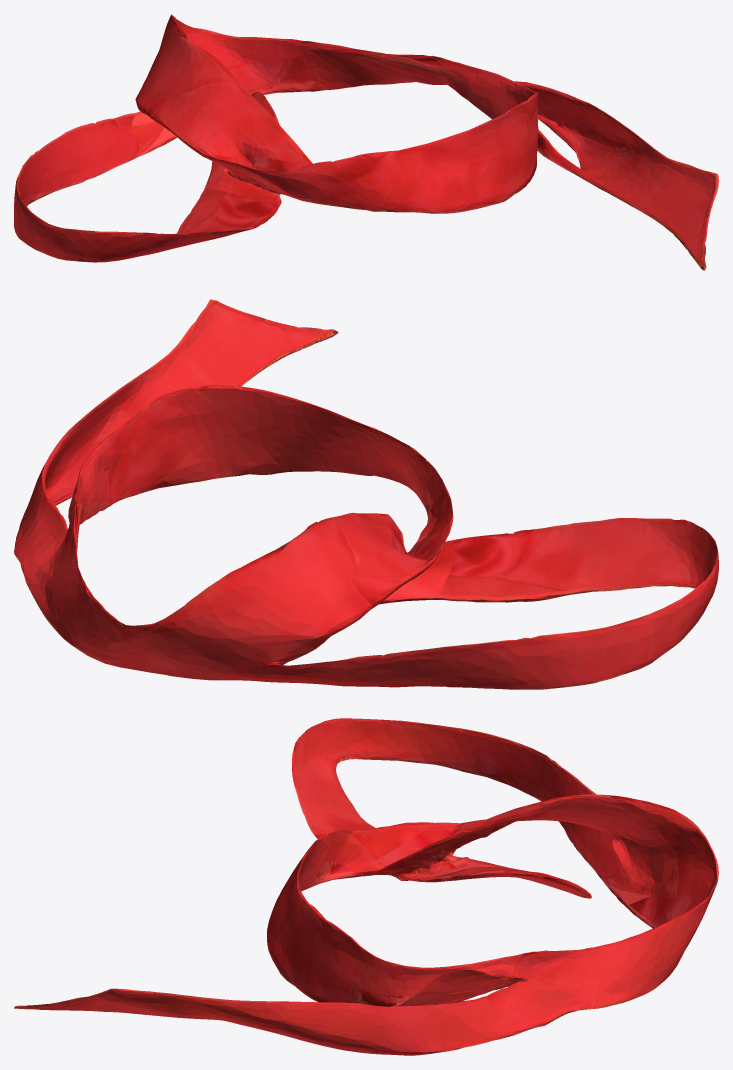
File: Kırmızı Kurdele.fbx
The picture shows the model from 3 angles, top to bottom: view 1: azimuth 30°, elevation 25°; view 2: azimuth 150°, elevation 25°; view 3: azimuth 270°, elevation 25°; orthographic projection. The views are drawn at different scales.
Parts seen in each view (by area): view 1: temp; view 2: temp; view 3: temp.
Part boxes in pixels (x1,y1,x2,y2): temp: [14, 14, 718, 270]; temp: [14, 299, 718, 689]; temp: [14, 718, 718, 1055].
Size of the model in its own units: 187 by 35.15 by 197.
Materials: 1 (1 with a texture image).
